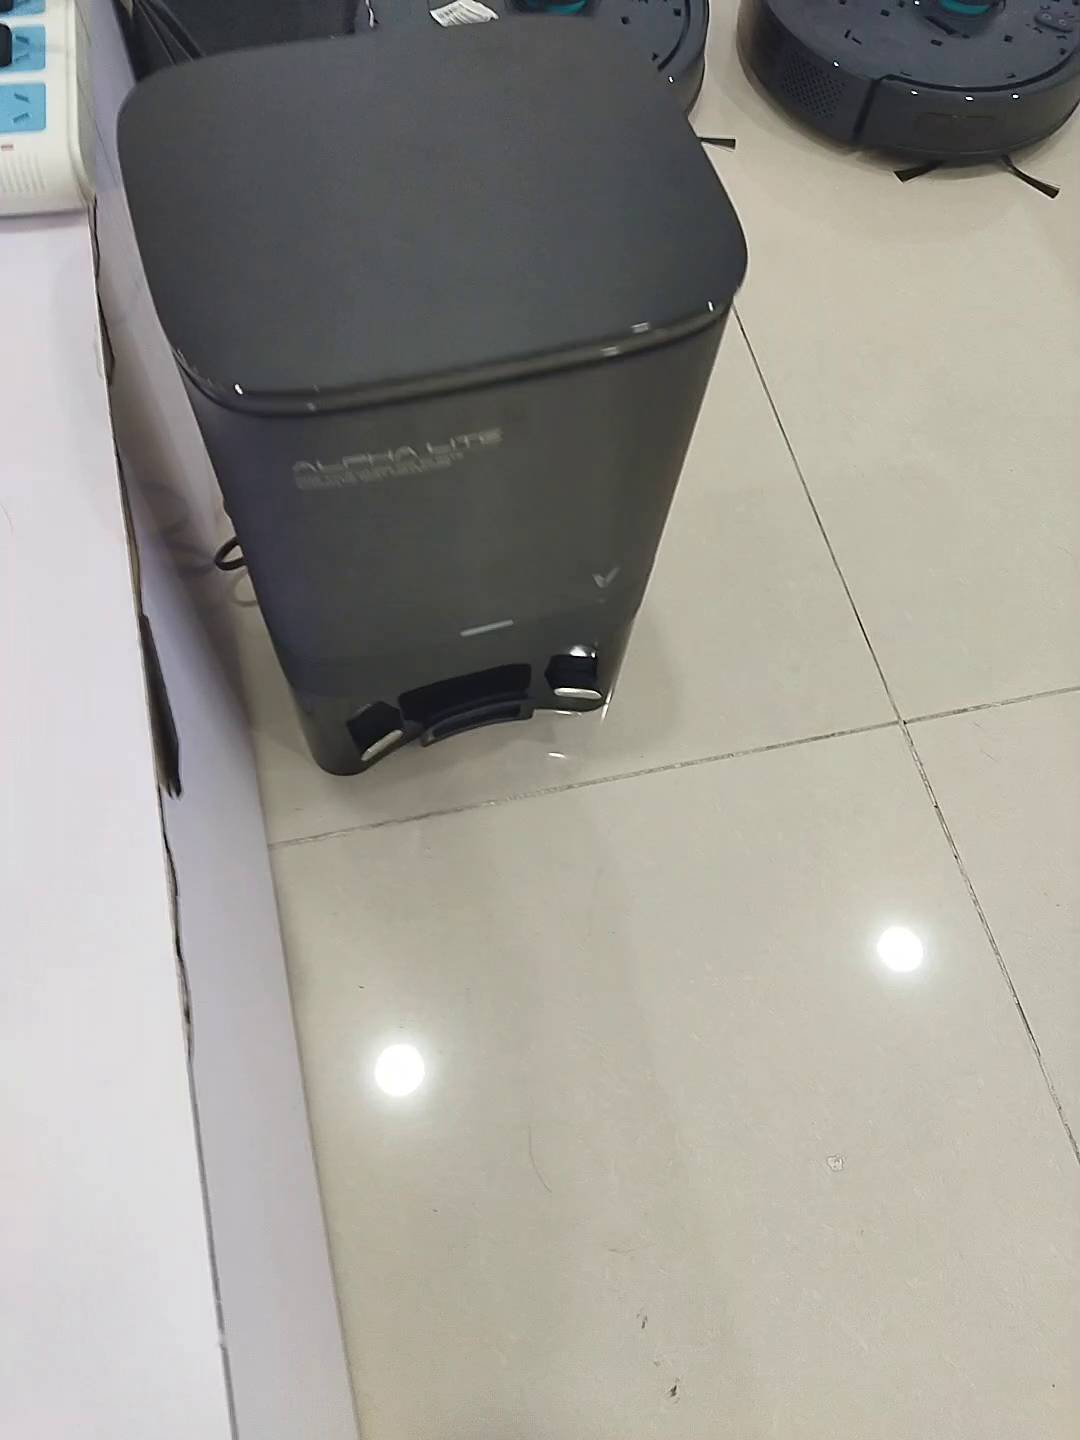dust collecting barrel: (117, 15, 750, 779)
